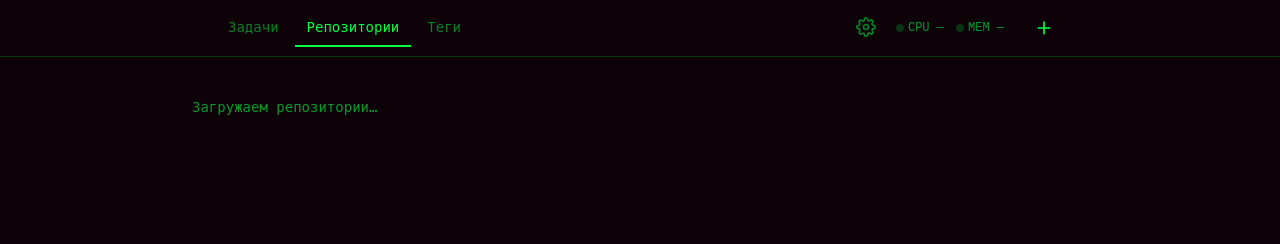
Test: App routing › navigates to #/tasks from the top nav item
The width and height of the screenshot is (1280, 244).
Click the button "Задачи" at (253, 28), box 216,9 -> 291,47
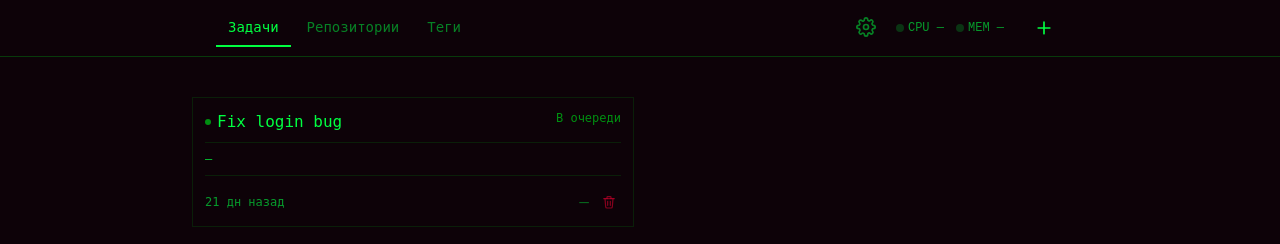
Now the text "Fix login bug" is shown, box 217,110 -> 342,134
